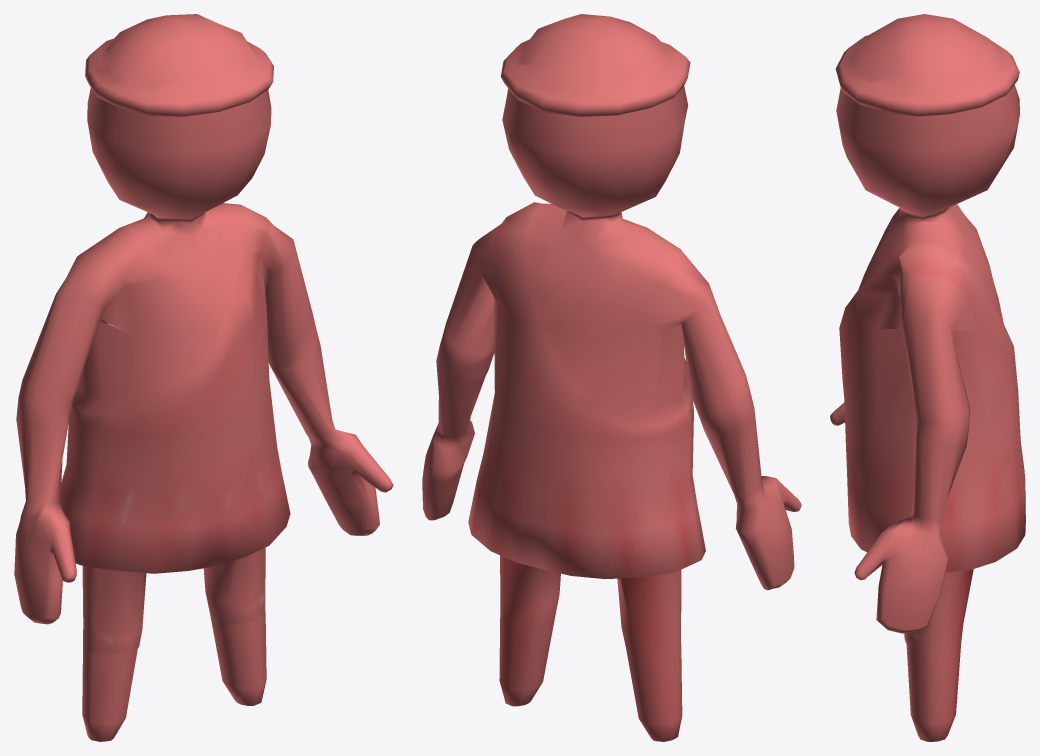
Rendered from throw01.fbx.
3 renders of one model, left to right at view 1: azimuth 30°, elevation 25°; view 2: azimuth 150°, elevation 25°; view 3: azimuth 270°, elevation 25°, orthographic. The views are drawn at different scales.
Visible parts, largest first — view 1: pCube11; view 2: pCube11; view 3: pCube11.
Boxes of the visible parts, x1,y1,x2,y2 form: pCube11: (14, 14, 393, 741); pCube11: (422, 14, 801, 741); pCube11: (830, 14, 1025, 741).
Bounding box in the file's own units: 59.23 × 112 × 29.13.
